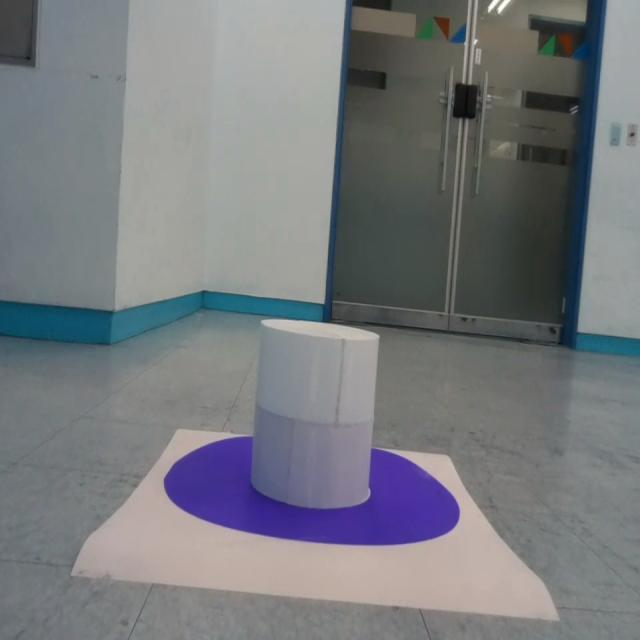cylinder: (250, 317, 378, 510)
